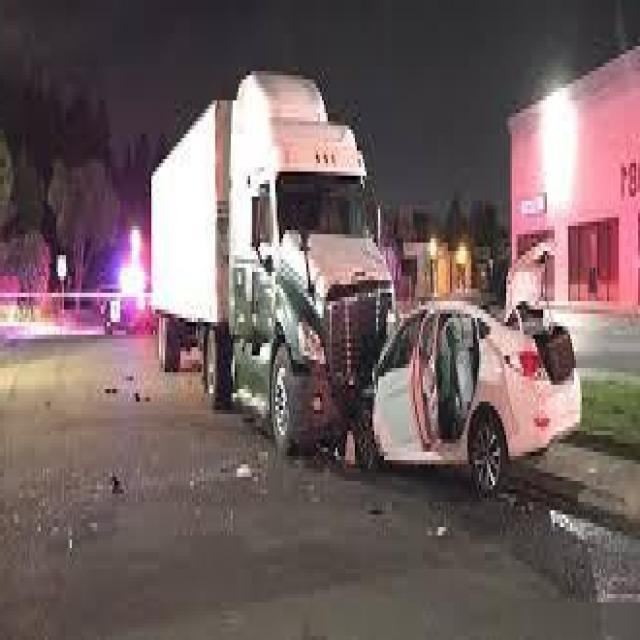accident: (147, 59, 592, 494)
